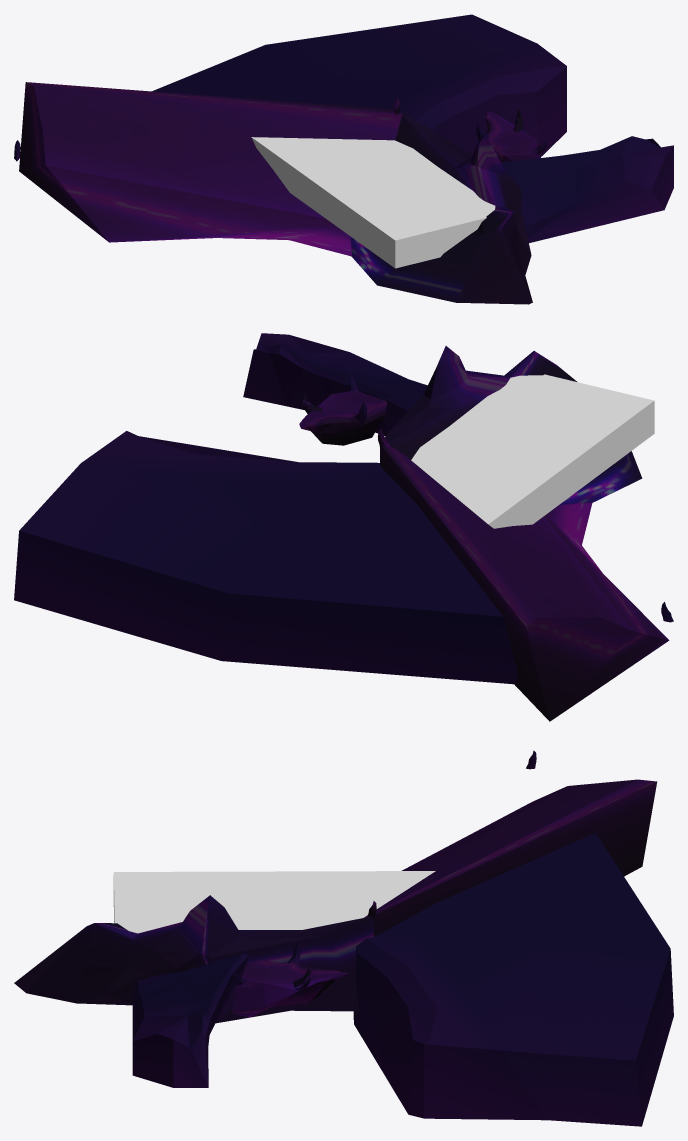
Rendered from sb-eco.glb.
The picture shows the model from 3 angles, top to bottom: view 1: azimuth 30°, elevation 25°; view 2: azimuth 150°, elevation 25°; view 3: azimuth 270°, elevation 25°; orthographic projection. The views are drawn at different scales.
Parts seen in each view (by area): view 1: Sidewall2, Ecoground1, Ecoground2, Sidewall1, Ramp1, Pillar1; view 2: Ecoground1, Sidewall2, Ecoground2, Ramp1, Sidewall1, Pillar1; view 3: Ecoground1, Sidewall1, Sidewall2, Ecoground2, Ramp1, Pillar1.
Boxes of the visible parts, left/top/right/bottom form: Sidewall2: left=19, top=82, right=402, bottom=256; Ecoground1: left=152, top=14, right=566, bottom=156; Ecoground2: left=251, top=137, right=495, bottom=268; Sidewall1: left=350, top=111, right=532, bottom=304; Ramp1: left=501, top=136, right=673, bottom=242; Pillar1: left=485, top=111, right=540, bottom=161; Ecoground1: left=14, top=431, right=516, bottom=684; Sidewall2: left=380, top=445, right=669, bottom=721; Ecoground2: left=411, top=374, right=654, bottom=528; Ramp1: left=243, top=333, right=427, bottom=436; Sidewall1: left=385, top=346, right=642, bottom=504; Pillar1: left=299, top=390, right=387, bottom=445; Ecoground1: left=353, top=833, right=673, bottom=1126; Sidewall1: left=14, top=895, right=373, bottom=1023; Sidewall2: left=364, top=779, right=657, bottom=936; Ecoground2: left=113, top=871, right=435, bottom=933; Ramp1: left=132, top=953, right=248, bottom=1087; Pillar1: left=232, top=961, right=349, bottom=1017.
Bounding box in the file's own units: 191 × 44.46 × 188.
4 materials, 4 textured.
